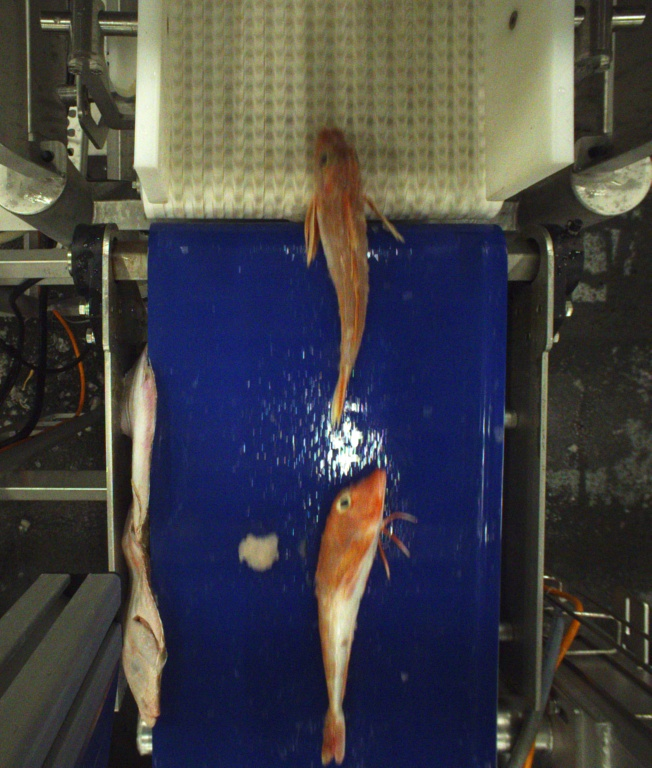GUU: (314, 469, 419, 768)
